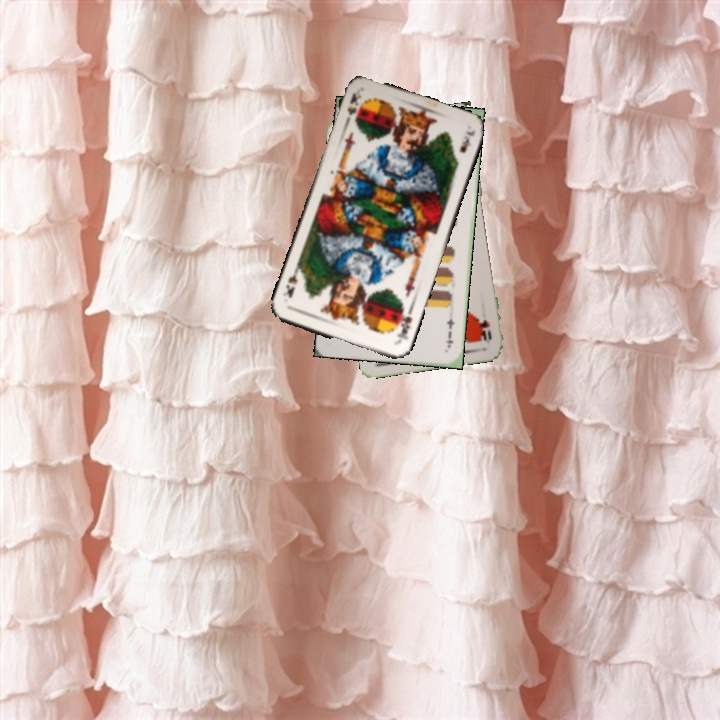E7: (441, 314, 457, 350)
HO: (478, 315, 494, 345)
SK: (391, 304, 415, 346), (340, 88, 364, 128)
